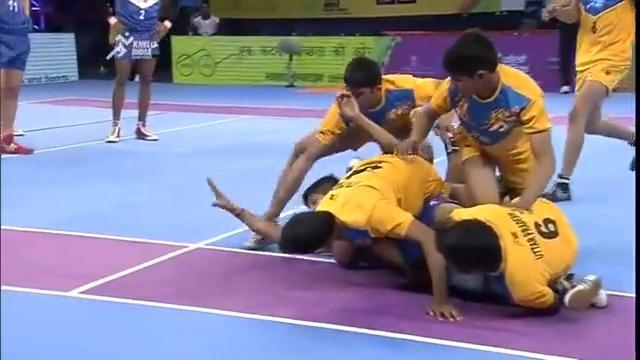Player: (395, 28, 556, 209), (430, 195, 608, 314), (540, 0, 636, 202), (103, 0, 176, 142), (0, 0, 35, 154)
Raider: (238, 122, 452, 314)
referee: (517, 0, 580, 93)
